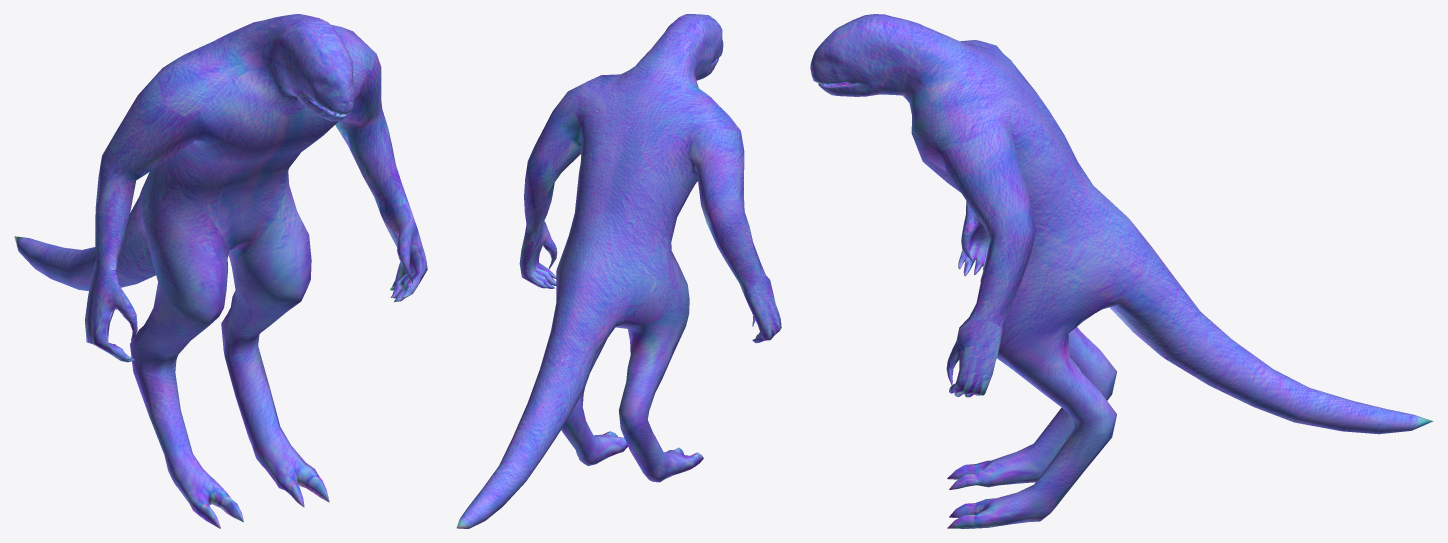
File: Lizardman.obj
3 views of the same model, side by side, from view 1: azimuth 30°, elevation 25°; view 2: azimuth 150°, elevation 25°; view 3: azimuth 270°, elevation 25° (orthographic). The views are drawn at different scales.
Parts seen in each view (by area): view 1: Lizardman; view 2: Lizardman; view 3: Lizardman.
Boxes of the visible parts, x1,y1,x2,y2 form: Lizardman: [14, 14, 427, 528]; Lizardman: [456, 14, 781, 528]; Lizardman: [810, 14, 1433, 528].
Size of the model in its own units: 1.15 by 1.74 by 2.02.
